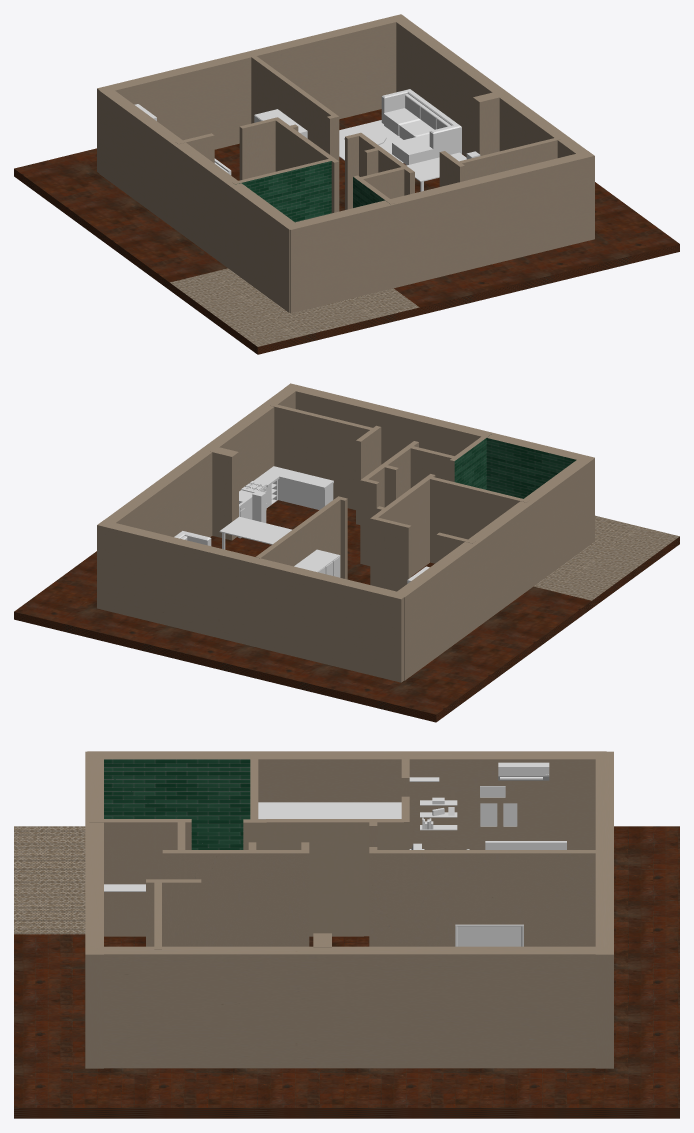
File: Textura_Prueba_2.fbx
The picture shows the model from 3 angles, top to bottom: view 1: azimuth 30°, elevation 25°; view 2: azimuth 150°, elevation 25°; view 3: azimuth 270°, elevation 25°; orthographic projection. The views are drawn at different scales.
Parts seen in each view (by area): view 1: Suelo, Pared_3_Exterior, Pared_4_Exterior, Pared_1_Exterior, Pared_2_Exterior, Sofa, Cube.004, Cube.018, Cube.006, Cube.010, Cube.019, Cube.012 (+8 smaller); view 2: Suelo, Pared_1_Exterior, Pared_4_Exterior, Pared_3_Exterior, Pared_2_Exterior, Cube.010, Cube.018, Cube.004, Cube.019, Cube.006, Cube.012, Cube.007 (+11 smaller); view 3: Suelo, Pared_2_Exterior, Pared_4_Exterior, Cube.004, Cube.007, Cube.006, Cube.008, Pared_1_Exterior, Pared_3_Exterior, Cube.009, Closet, Tv_Sala-Estar (+4 smaller).
Boxes of the visible parts, x1=… form: Suelo: x1=14, y1=109, x2=679, y2=354; Pared_3_Exterior: x1=284, y1=151, x2=594, y2=313; Pared_4_Exterior: x1=99, y1=87, x2=299, y2=312; Pared_1_Exterior: x1=97, y1=14, x2=407, y2=172; Pared_2_Exterior: x1=393, y1=16, x2=587, y2=157; Sofa: x1=381, y1=89, x2=461, y2=165; Cube.004: x1=251, y1=56, x2=339, y2=160; Cube.018: x1=232, y1=159, x2=331, y2=222; Cube.006: x1=275, y1=117, x2=339, y2=213; Cube.010: x1=459, y1=137, x2=561, y2=180; Cube.019: x1=239, y1=118, x2=278, y2=180; Cube.012: x1=473, y1=92, x2=500, y2=155; Suelo: x1=14, y1=500, x2=679, y2=722; Pared_1_Exterior: x1=97, y1=520, x2=407, y2=682; Pared_4_Exterior: x1=396, y1=455, x2=594, y2=680; Pared_3_Exterior: x1=285, y1=383, x2=594, y2=540; Pared_2_Exterior: x1=104, y1=384, x2=300, y2=537; Cube.010: x1=270, y1=403, x2=372, y2=509; Cube.018: x1=430, y1=477, x2=529, y2=563; Cube.004: x1=255, y1=496, x2=342, y2=577; Cube.019: x1=372, y1=517, x2=411, y2=591; Cube.006: x1=370, y1=474, x2=435, y2=585; Cube.012: x1=210, y1=446, x2=238, y2=540; Cube.007: x1=360, y1=441, x2=418, y2=564; Suelo: x1=14, y1=826, x2=679, y2=1118; Pared_2_Exterior: x1=87, y1=946, x2=606, y2=1068; Pared_4_Exterior: x1=87, y1=751, x2=606, y2=849; Cube.004: x1=369, y1=850, x2=595, y2=946; Cube.007: x1=162, y1=850, x2=309, y2=946; Cube.006: x1=243, y1=818, x2=409, y2=936; Cube.008: x1=89, y1=819, x2=191, y2=936; Pared_1_Exterior: x1=595, y1=751, x2=613, y2=1068; Pared_3_Exterior: x1=85, y1=751, x2=103, y2=1068; Cube.009: x1=146, y1=879, x2=201, y2=946; Closet: x1=258, y1=802, x2=401, y2=819; Tv_Sala-Estar: x1=455, y1=924, x2=523, y2=946.
Bounding box in the file's own units: 2065 × 427 × 2065.
